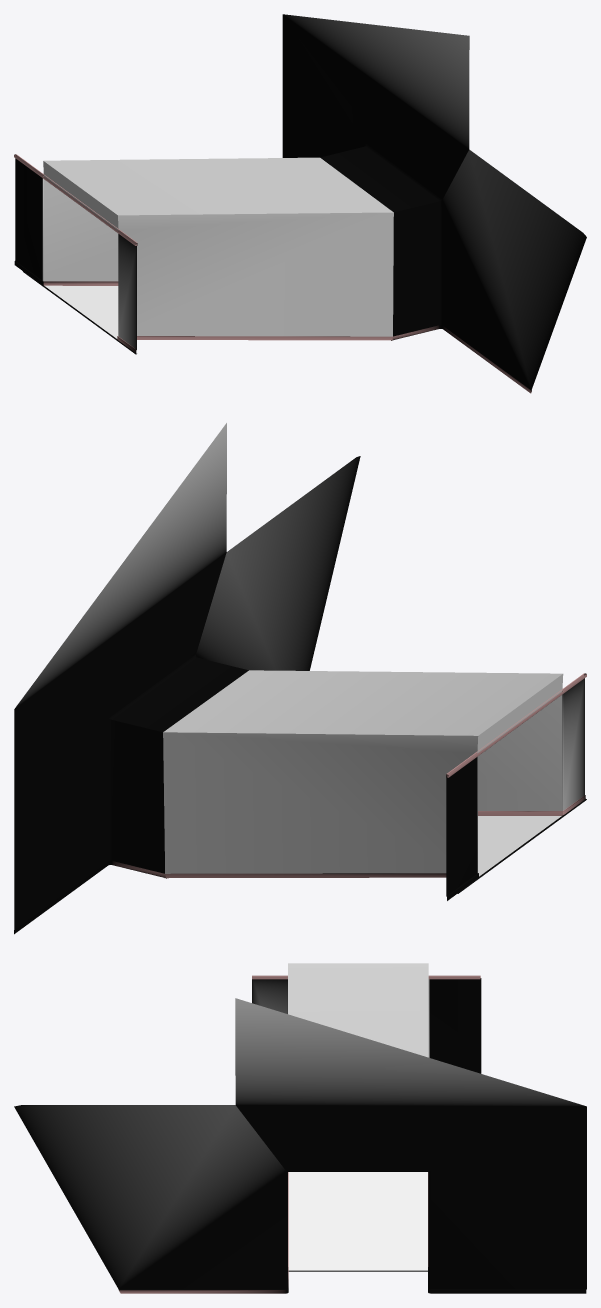
File: ST_Aisle_01.fbx
3 renders of one model, top to bottom at view 1: azimuth 30°, elevation 25°; view 2: azimuth 150°, elevation 25°; view 3: azimuth 270°, elevation 25°, orthographic. The views are drawn at different scales.
Parts seen in each view (by area): view 1: ST_Aisle_01_LOD0; view 2: ST_Aisle_01_LOD0; view 3: ST_Aisle_01_LOD0.
Part boxes in pixels (bbox=[...]): ST_Aisle_01_LOD0: bbox=[14, 14, 586, 393]; ST_Aisle_01_LOD0: bbox=[14, 423, 586, 934]; ST_Aisle_01_LOD0: bbox=[14, 963, 586, 1293].
Bounding box in the file's own units: 1007 × 927 × 1629.
